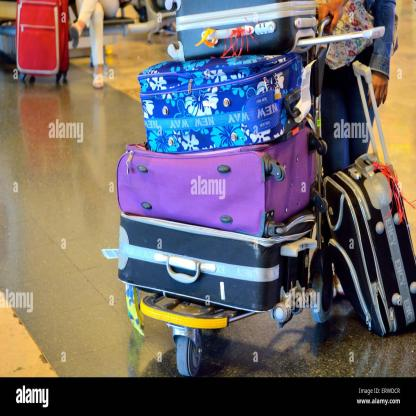airport-trolley: (119, 2, 341, 378)
